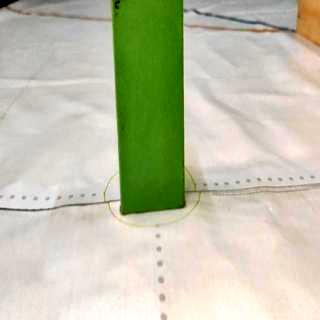greenbox: (108, 1, 188, 222)
